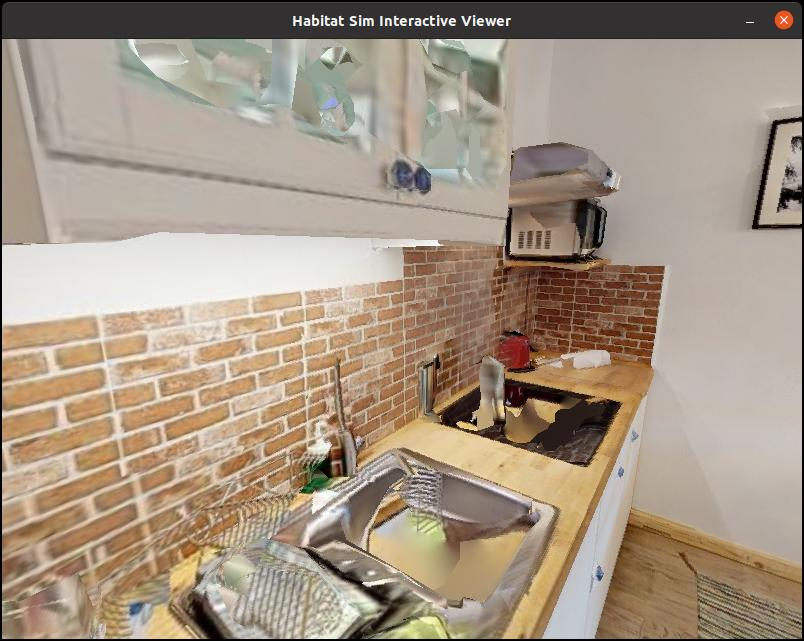sink: (160, 332, 570, 641)
table: (138, 323, 666, 641)
